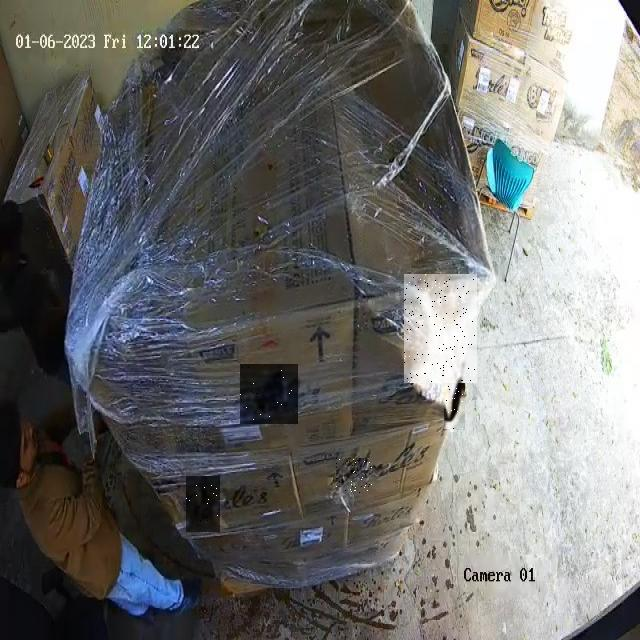leakage: (241, 364, 298, 423), (187, 476, 219, 532), (337, 459, 374, 493), (445, 379, 463, 429)
squeeze: (405, 275, 475, 383)
